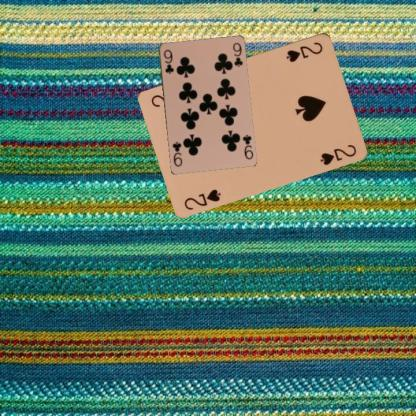2s: (182, 186, 223, 211), (284, 38, 324, 63)
9c: (161, 47, 175, 75), (240, 132, 254, 160)
